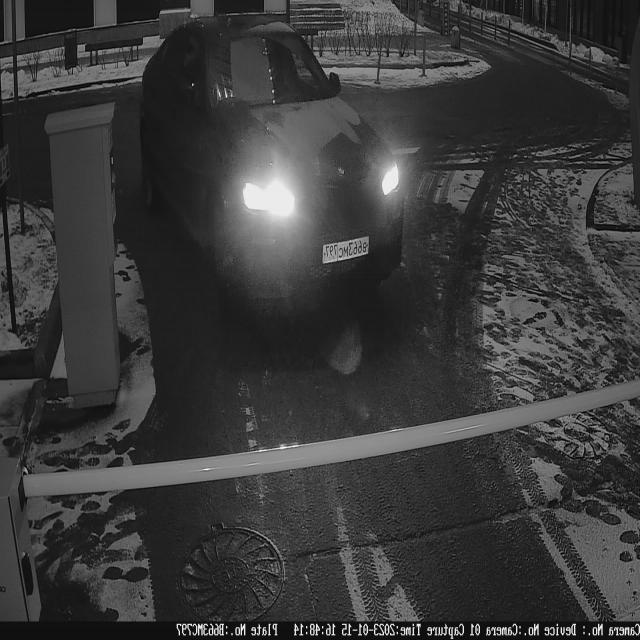car-plate-numbers: (322, 233, 373, 269)
